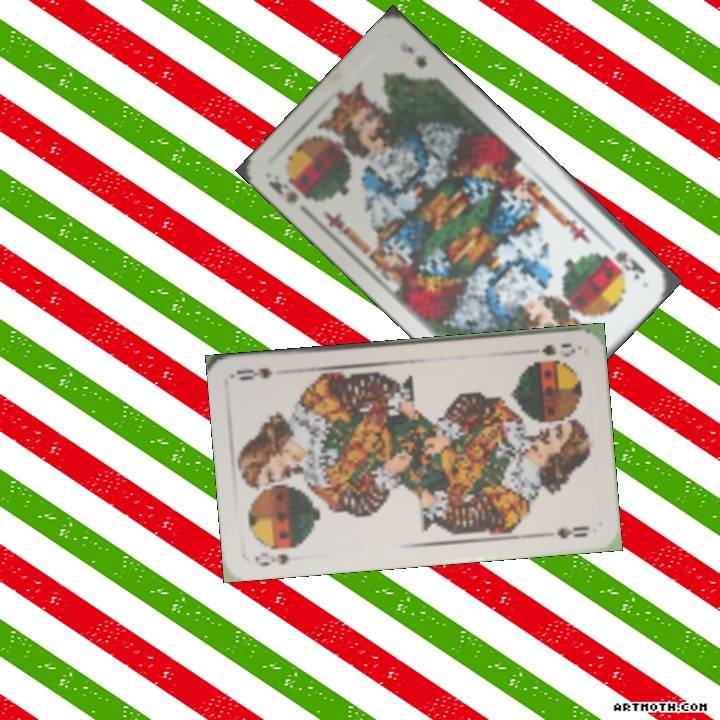SK: (610, 247, 648, 282), (264, 176, 301, 206)
SO: (537, 339, 578, 360), (250, 549, 292, 569)
